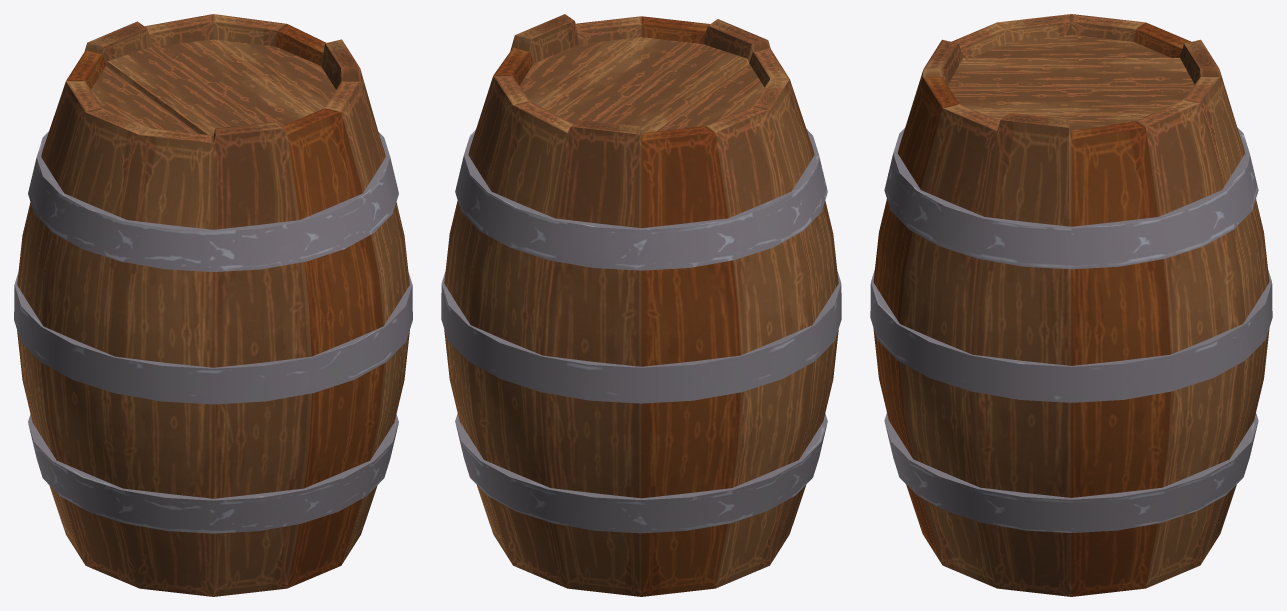
Rendered from Barrel.gltf.
3 views of the same model, side by side, from view 1: azimuth 30°, elevation 25°; view 2: azimuth 150°, elevation 25°; view 3: azimuth 270°, elevation 25° (orthographic).
Visible parts, largest first — view 1: Barrel; view 2: Barrel; view 3: Barrel.
Part boxes in pixels (<box>): Barrel: <box>14,14,412,596</box>; Barrel: <box>441,14,841,596</box>; Barrel: <box>870,14,1272,596</box>.
Bounding box in the file's own units: 0.698 × 0.898 × 0.698.
2 materials, 2 textured.
